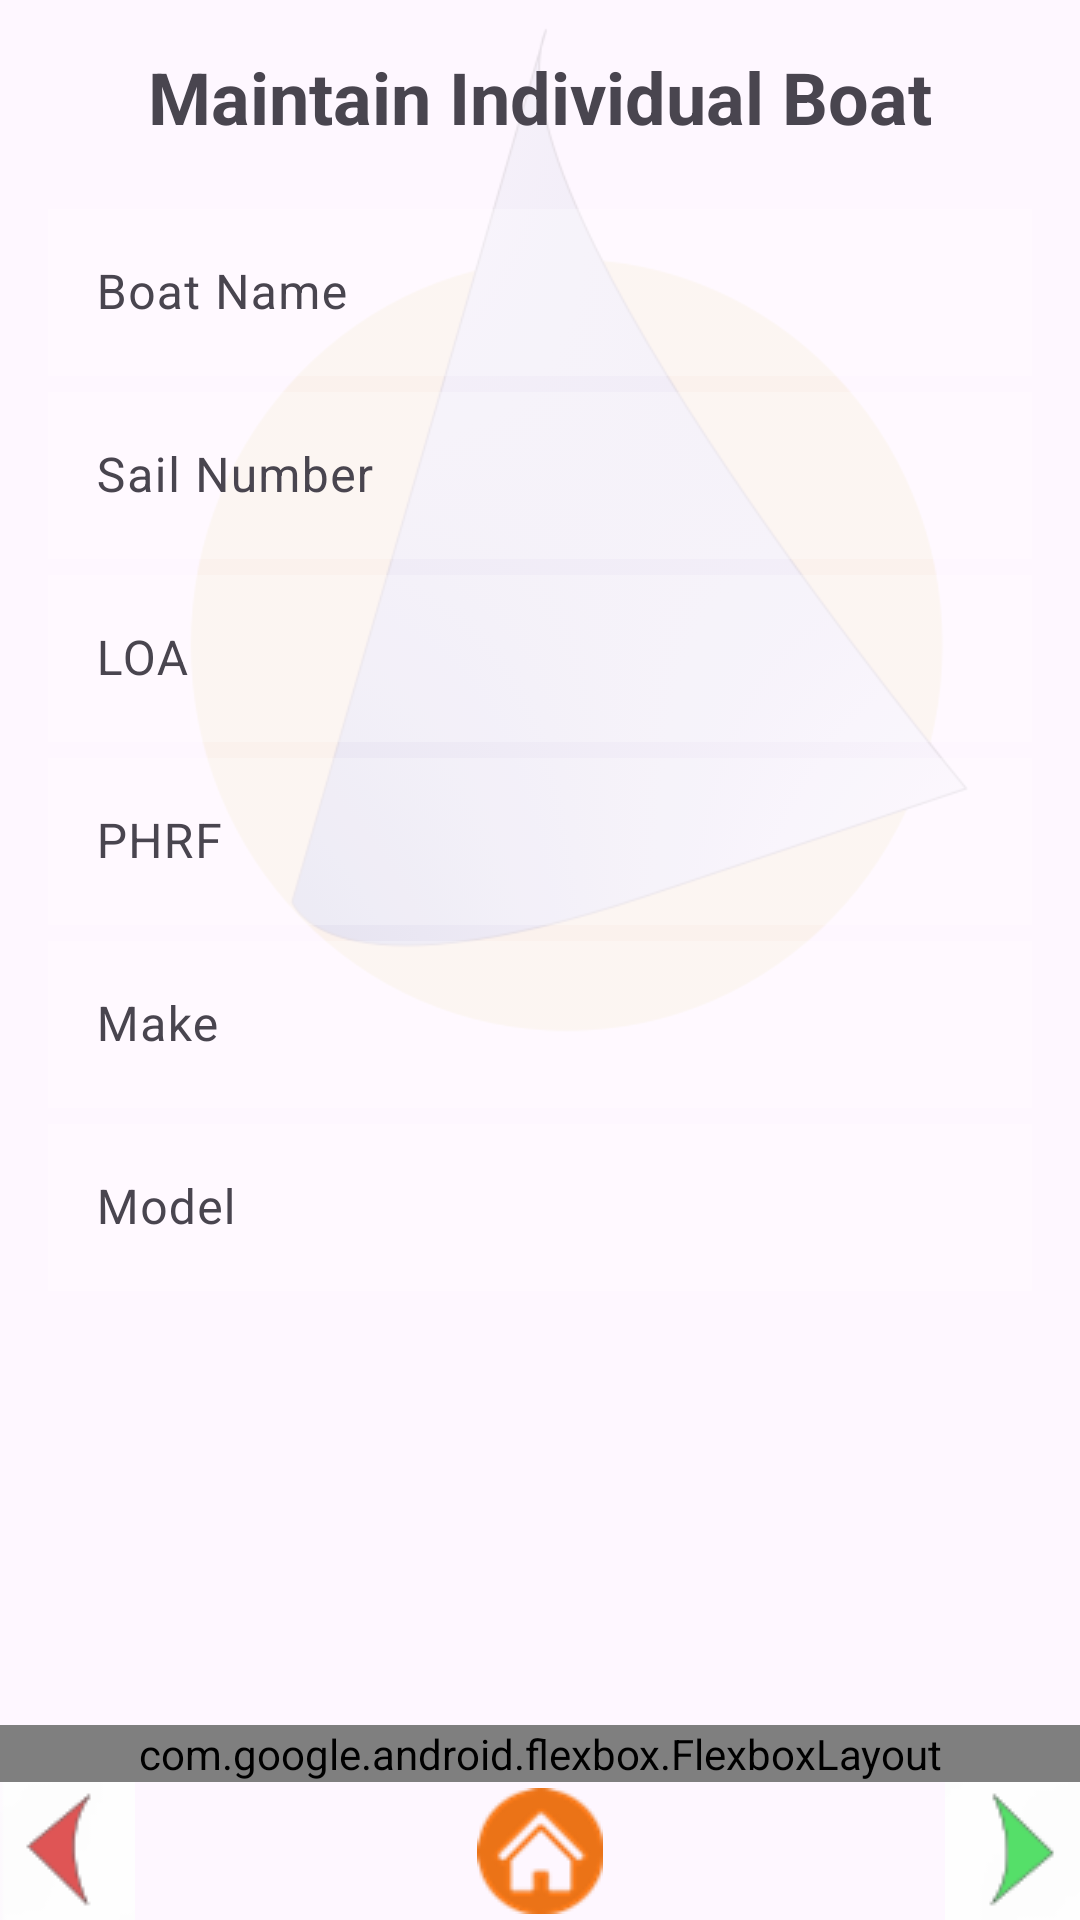

Where icons sit on this 1080 × 1920 app screen, as (x1, y1, x2, y2):
Home: (477, 1788, 603, 1914)
Left Nav: (26, 1793, 91, 1905)
Right Nav: (990, 1793, 1054, 1905)
